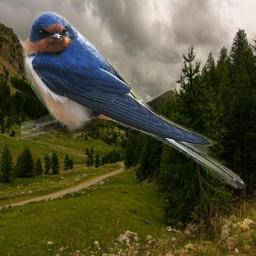Swallow: (21, 11, 246, 189)
